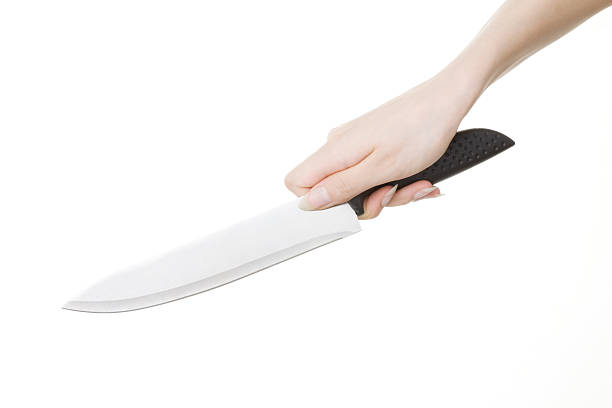knife: (55, 121, 518, 318)
